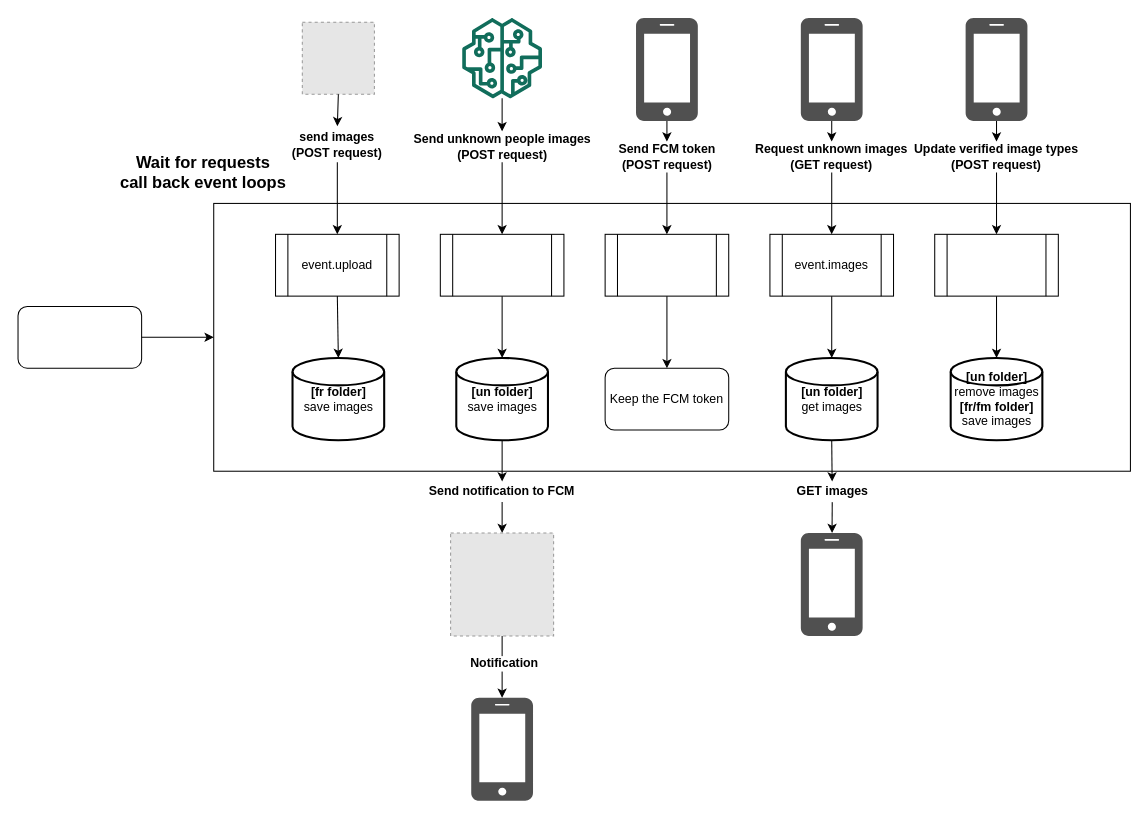
Some shapes in this 1148 by 818 pixel diagram are drawn without their labels. Grey dashed boxes stand in for pictures. Here are the shapes that lost their labels. From the top down, the centre of each, then its label:
the point at 501,264: event.unknown
the point at 666,264: event.token
the point at 996,264: event.update
the point at 79,336: Express.js server start
